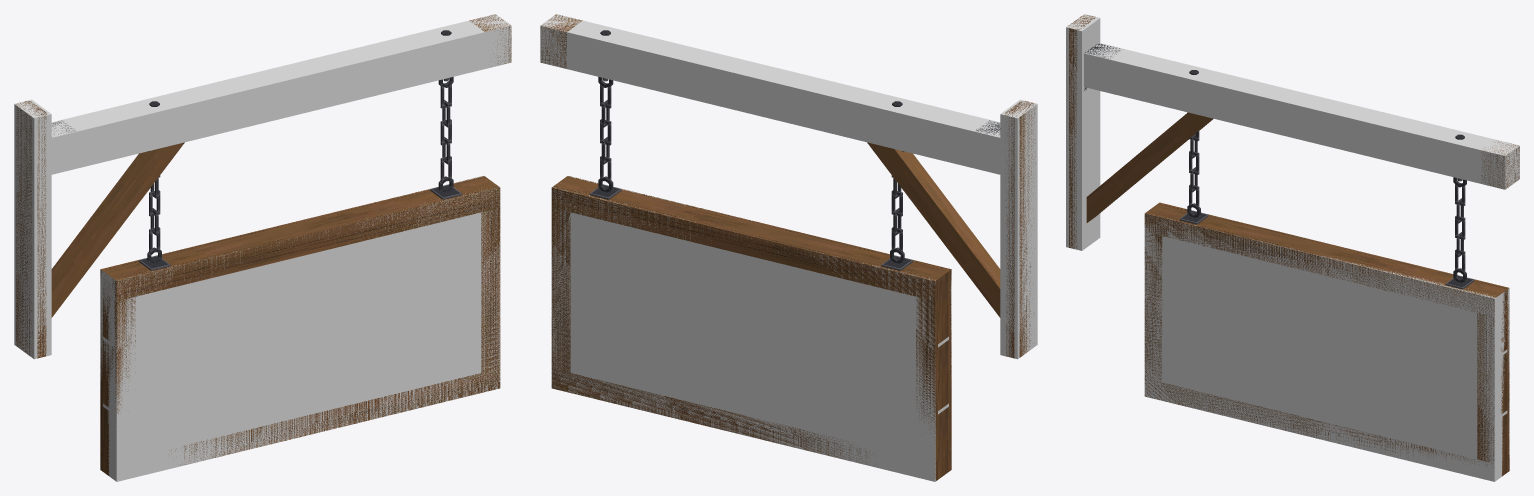
The model's file is sign_runes.glb.
3 views of the same model, side by side, from view 1: azimuth 30°, elevation 25°; view 2: azimuth 150°, elevation 25°; view 3: azimuth 330°, elevation 25° (orthographic). The views are drawn at different scales.
Visible parts, largest first — view 1: COL_board, sign_board, COL_bracket_arm, sign_runes, COL_bracket_plate; view 2: COL_board, sign_board, COL_bracket_arm, sign_runes, COL_bracket_plate; view 3: COL_board, COL_bracket_arm, sign_board, COL_bracket_plate, sign_runes.
Boxes of the visible parts, bbox=[...] form: COL_board: bbox=[100, 175, 500, 481]; sign_board: bbox=[100, 176, 500, 475]; COL_bracket_arm: bbox=[51, 14, 511, 174]; sign_runes: bbox=[16, 14, 511, 358]; COL_bracket_plate: bbox=[14, 99, 51, 359]; COL_board: bbox=[551, 175, 951, 481]; sign_board: bbox=[551, 176, 951, 480]; COL_bracket_arm: bbox=[540, 14, 1000, 174]; sign_runes: bbox=[540, 14, 1035, 358]; COL_bracket_plate: bbox=[1000, 99, 1037, 359]; COL_board: bbox=[1144, 213, 1509, 481]; COL_bracket_arm: bbox=[1084, 42, 1519, 189]; sign_board: bbox=[1144, 202, 1509, 476]; COL_bracket_plate: bbox=[1066, 14, 1100, 250]; sign_runes: bbox=[1068, 15, 1519, 248].
Size of the model in its own units: 1.25 by 0.96 by 0.09.
5 materials, 5 textured.
